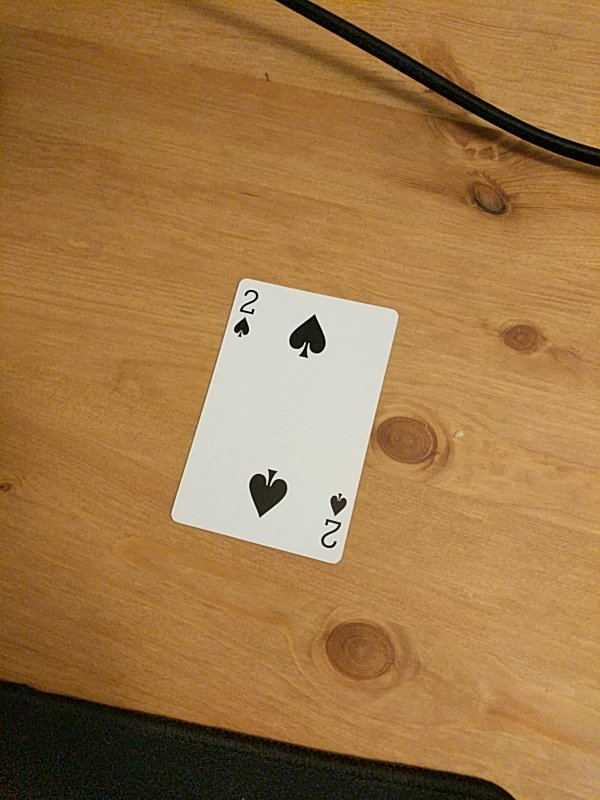Spades: (170, 276, 401, 567)
